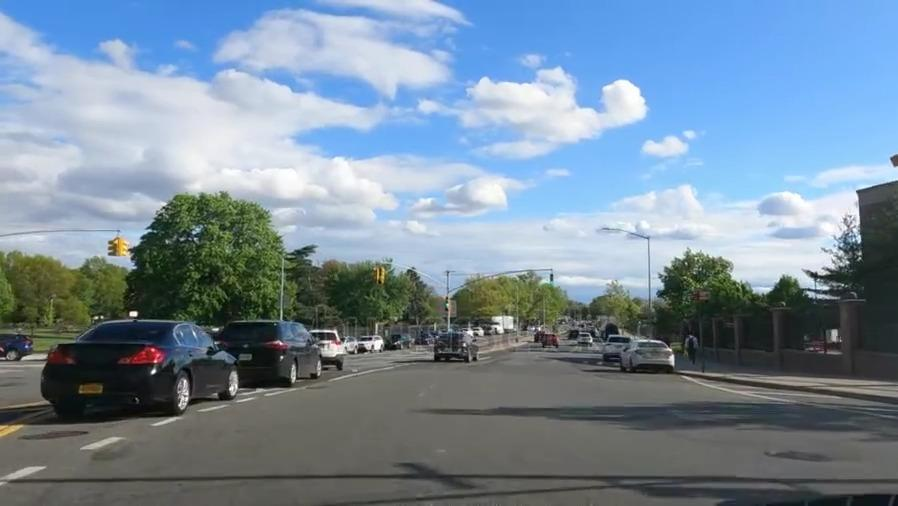car: (38, 327, 243, 411), (220, 322, 325, 388), (308, 323, 346, 371), (622, 339, 675, 371), (432, 331, 481, 363), (0, 327, 36, 363), (604, 333, 626, 360), (357, 334, 385, 354), (385, 333, 413, 350), (342, 335, 360, 354), (543, 333, 561, 348), (577, 333, 592, 345), (416, 335, 433, 345), (533, 330, 544, 340)
manhole: (14, 425, 93, 446)
pothole: (760, 444, 841, 473)
traffic light: (105, 235, 130, 261), (682, 333, 701, 367), (372, 263, 387, 284), (442, 295, 452, 314), (546, 270, 555, 291)
wheel: (166, 371, 192, 411), (217, 361, 242, 399), (280, 354, 303, 389), (310, 356, 326, 383)
